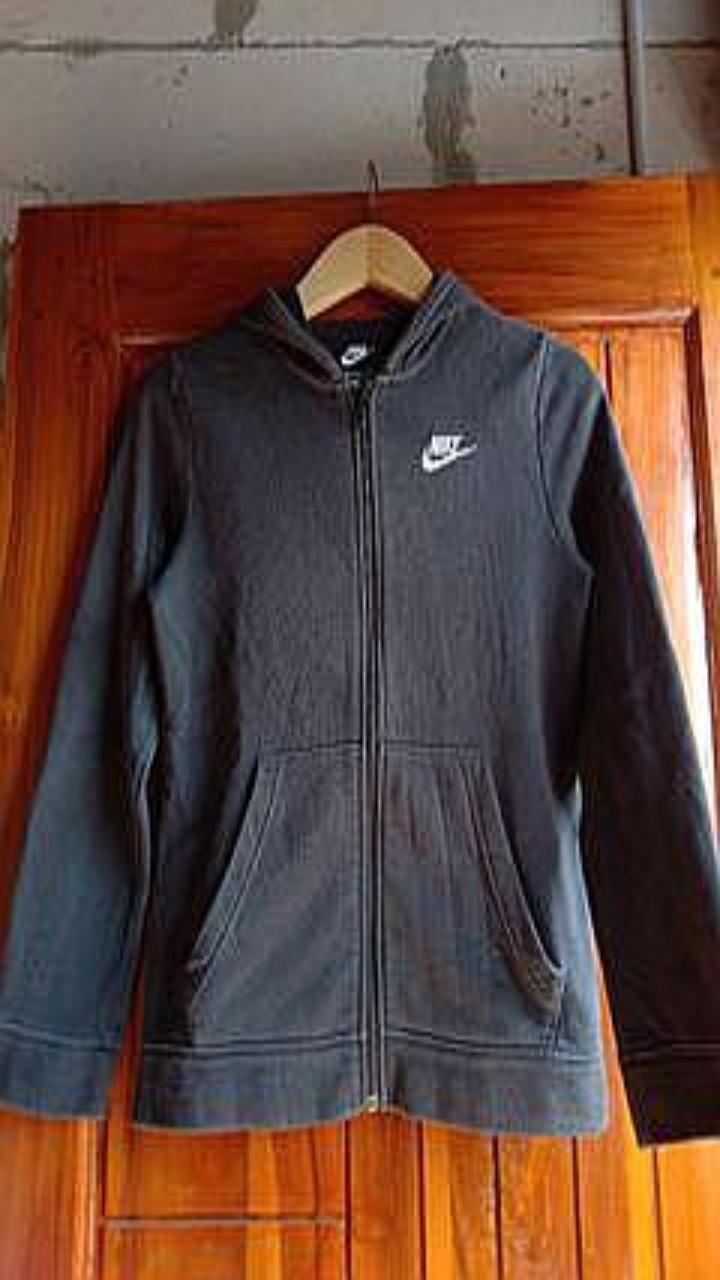Sports_Jacket: (0, 267, 719, 1144)
